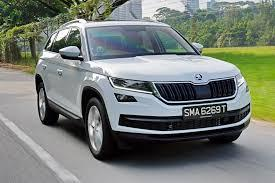skoda: (191, 72, 206, 82)
